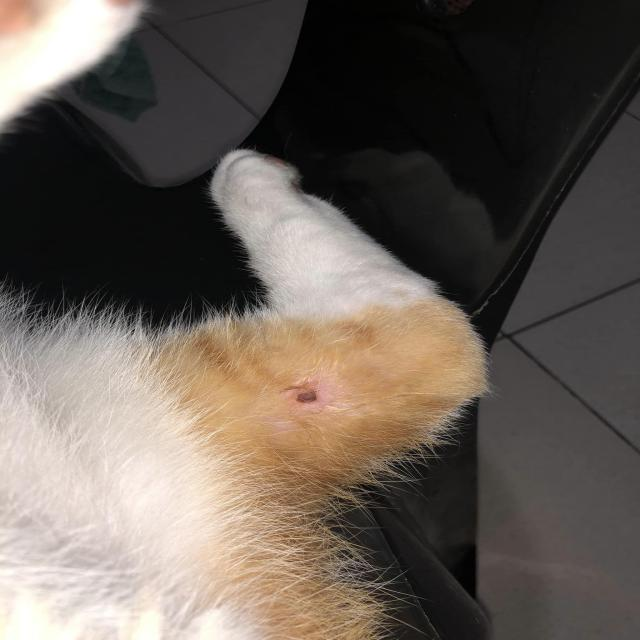Ringworm: (276, 369, 332, 420)
